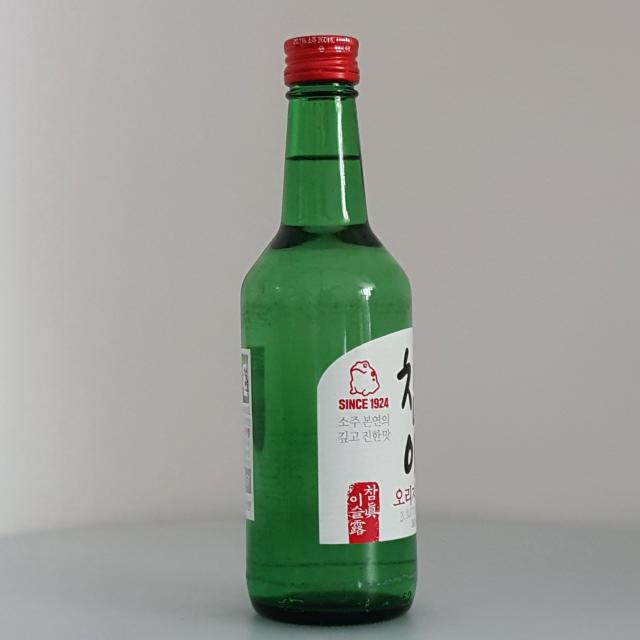soju-bottle: (240, 35, 418, 627)
